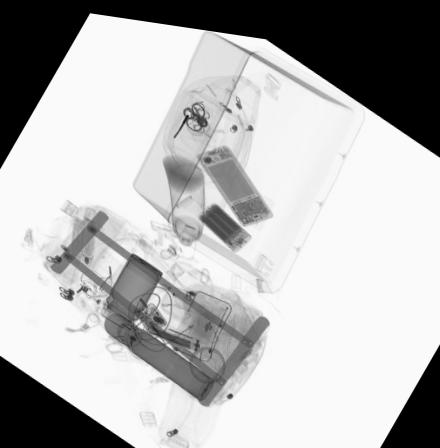Powerbank: (196, 194, 255, 248)
